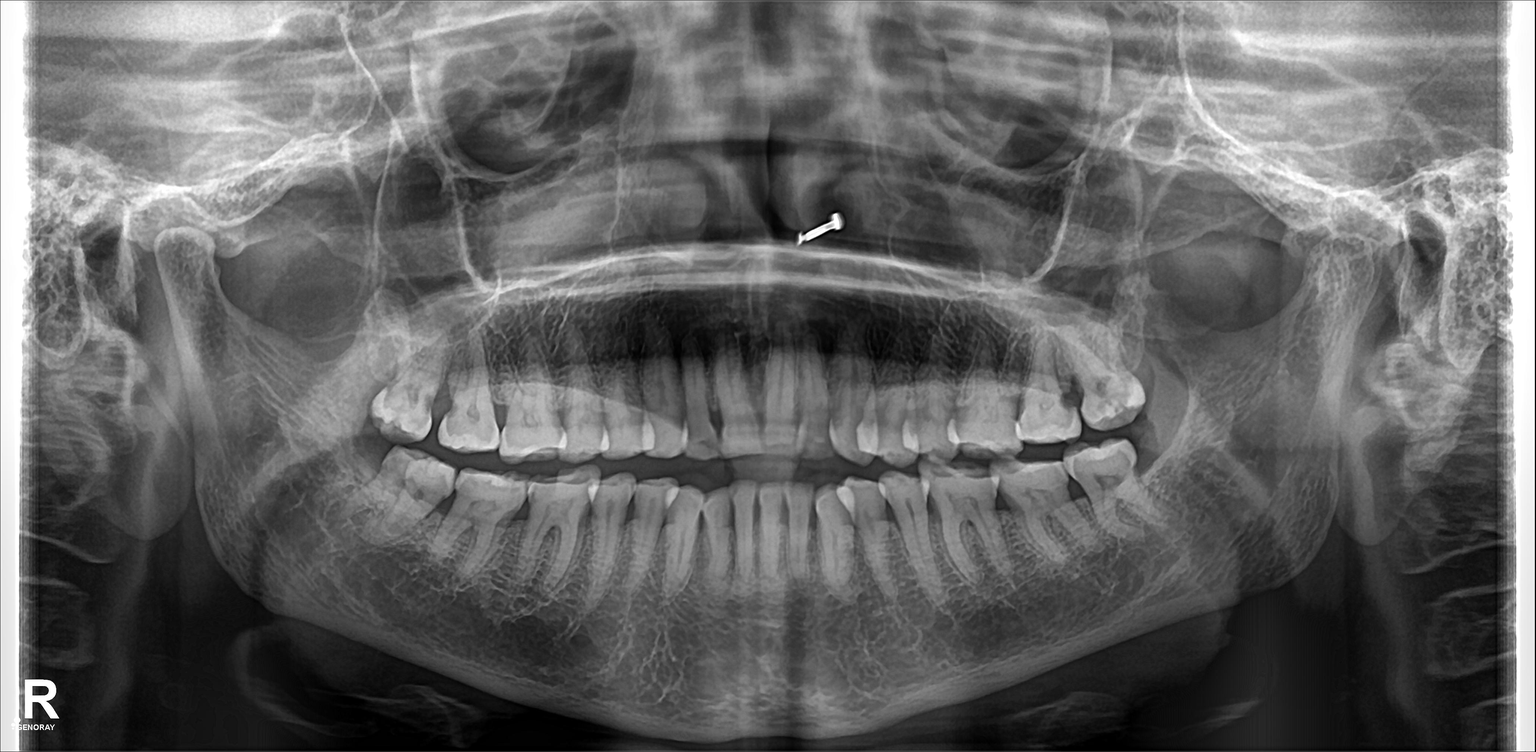Missing Tooth: (1147, 408, 1193, 480)
